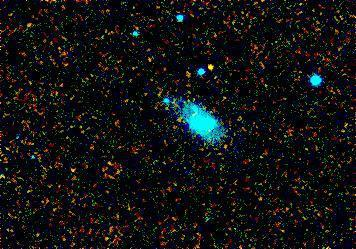star: (194, 53, 224, 83)
